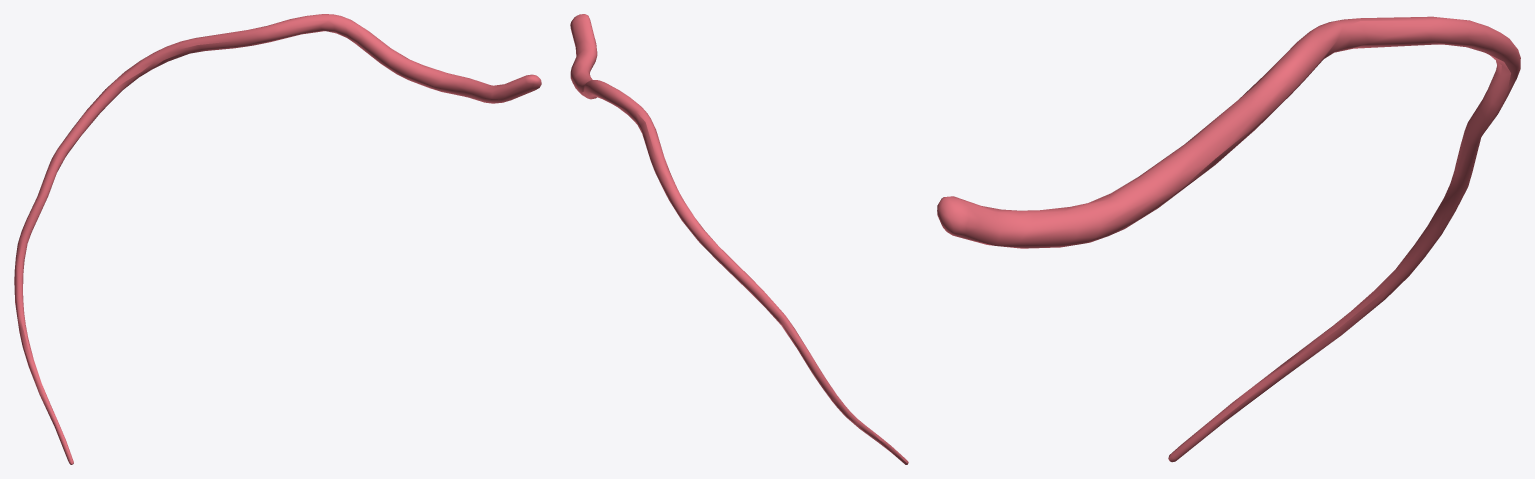
Rendered from fma70446_fj5826.glb.
3 renders of one model, left to right at view 1: azimuth 30°, elevation 25°; view 2: azimuth 150°, elevation 25°; view 3: azimuth 270°, elevation 25°, orthographic. The views are drawn at different scales.
Parts seen in each view (by area): view 1: FMA70446_FJ5826; view 2: FMA70446_FJ5826; view 3: FMA70446_FJ5826.
Part boxes in pixels (box(x1,y1,x2,y2)): FMA70446_FJ5826: box(14, 14, 541, 464); FMA70446_FJ5826: box(570, 14, 908, 464); FMA70446_FJ5826: box(937, 16, 1520, 462).
Bounding box in the file's own units: 0.0549 × 0.0452 × 0.0355.
